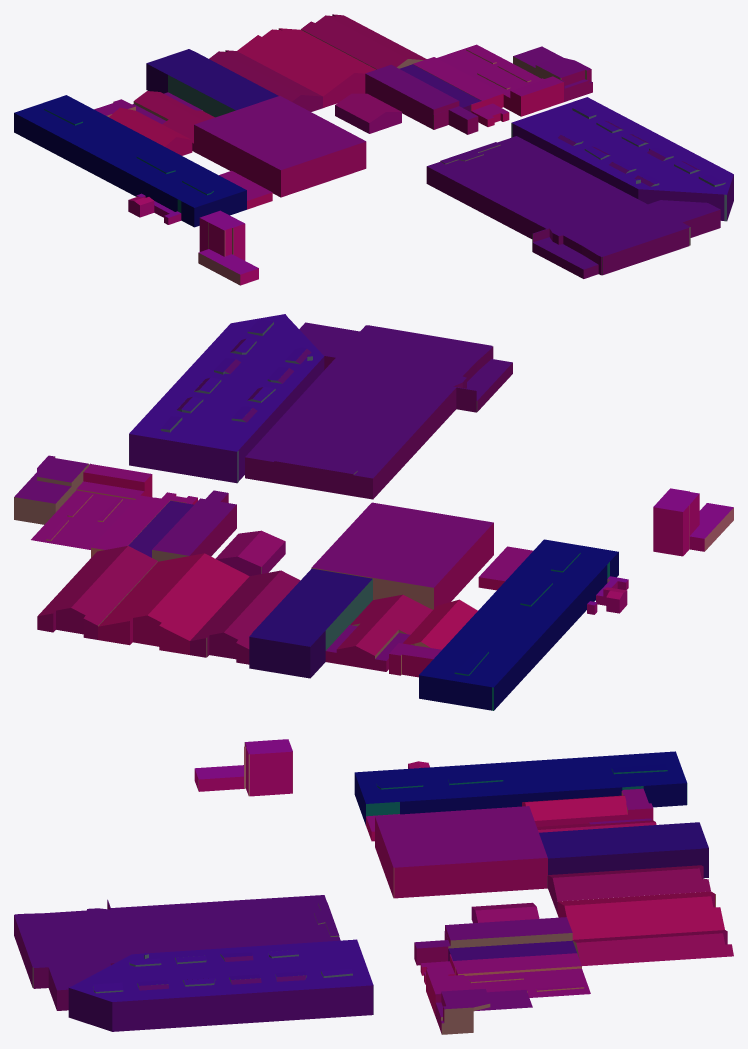
Rendered from buildings_10_6.glb.
3 views of the same model, one above another, from view 1: azimuth 30°, elevation 25°; view 2: azimuth 150°, elevation 25°; view 3: azimuth 270°, elevation 25° (orthographic). The views are drawn at different scales.
Visible parts, largest first — view 1: buildings_10_6; view 2: buildings_10_6; view 3: buildings_10_6.
Part boxes in pixels (box(x1,y1,x2,y2)): buildings_10_6: box(14, 14, 733, 285); buildings_10_6: box(14, 314, 733, 710); buildings_10_6: box(14, 739, 733, 1034).
Size of the model in its own units: 200 by 15.01 by 233.
